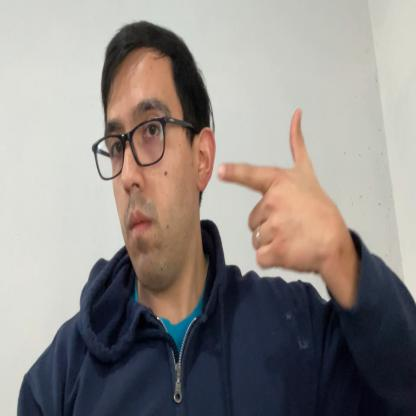G: (217, 107, 324, 275)
